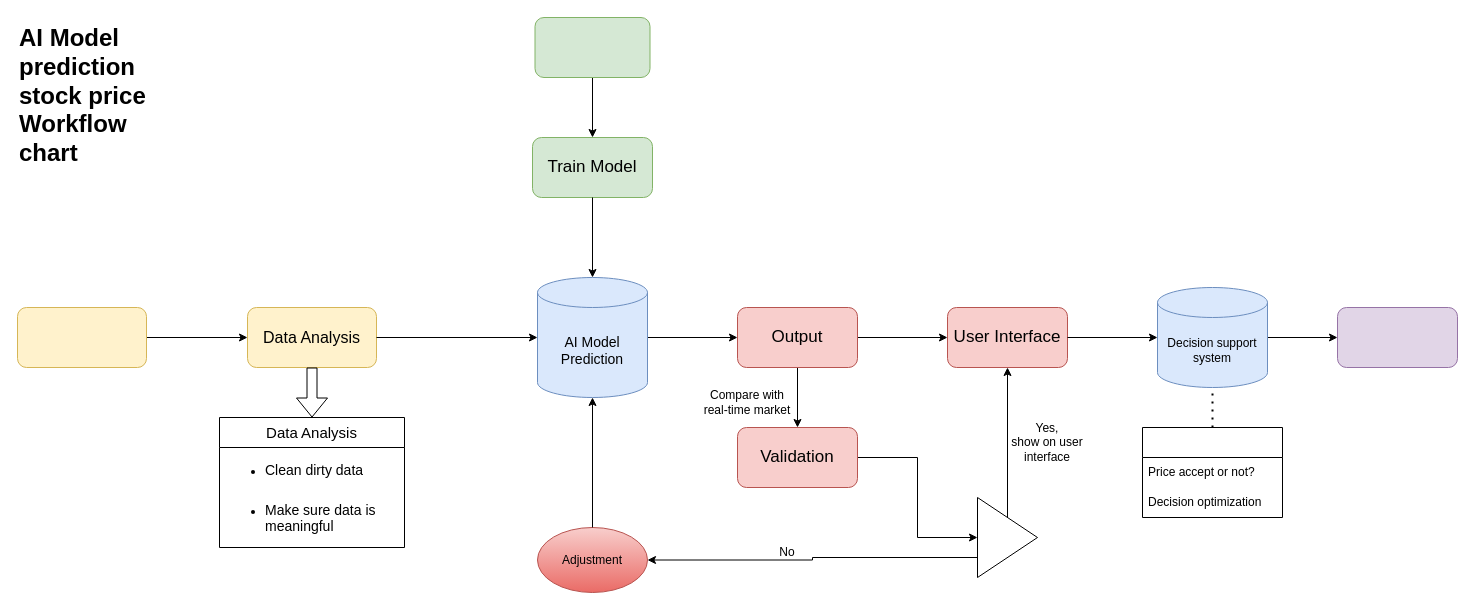
This 1475x610 diagram has some shape labels left out. The shapes that lost their labels are listed below. From the top down, each one's box as (x1, y1, x2, y2) in pixels, then its label:
(534, 16, 650, 78): Library
(16, 306, 146, 368): Data Collection
(1336, 306, 1458, 368): Make decision
(1142, 426, 1282, 518): DSS
(976, 496, 1038, 578): Correct
